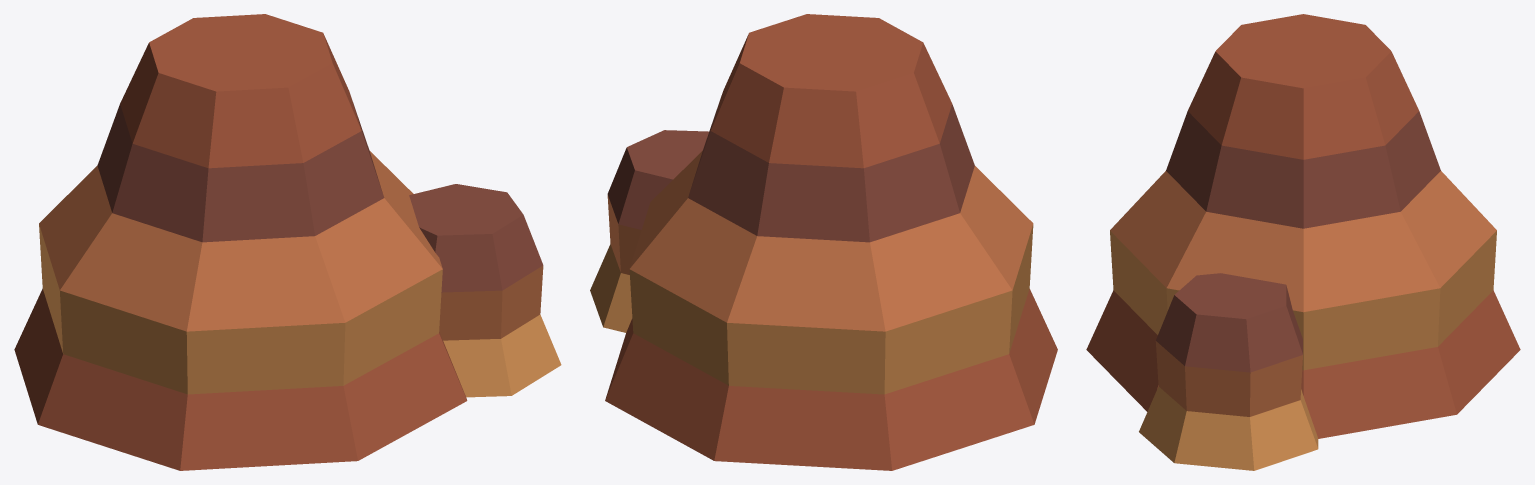
File: mesa-stack.glb
The picture shows the model from 3 angles, left to right: view 1: azimuth 30°, elevation 25°; view 2: azimuth 150°, elevation 25°; view 3: azimuth 270°, elevation 25°; orthographic projection. The views are drawn at different scales.
Visible parts, largest first — view 1: mesa-stack; view 2: mesa-stack; view 3: mesa-stack.
Boxes of the visible parts, x1,y1,x2,y2 form: mesa-stack: [14, 14, 561, 470]; mesa-stack: [590, 14, 1057, 470]; mesa-stack: [1086, 14, 1520, 470].
Size of the model in its own units: 9.33 by 6.1 by 8.04.
